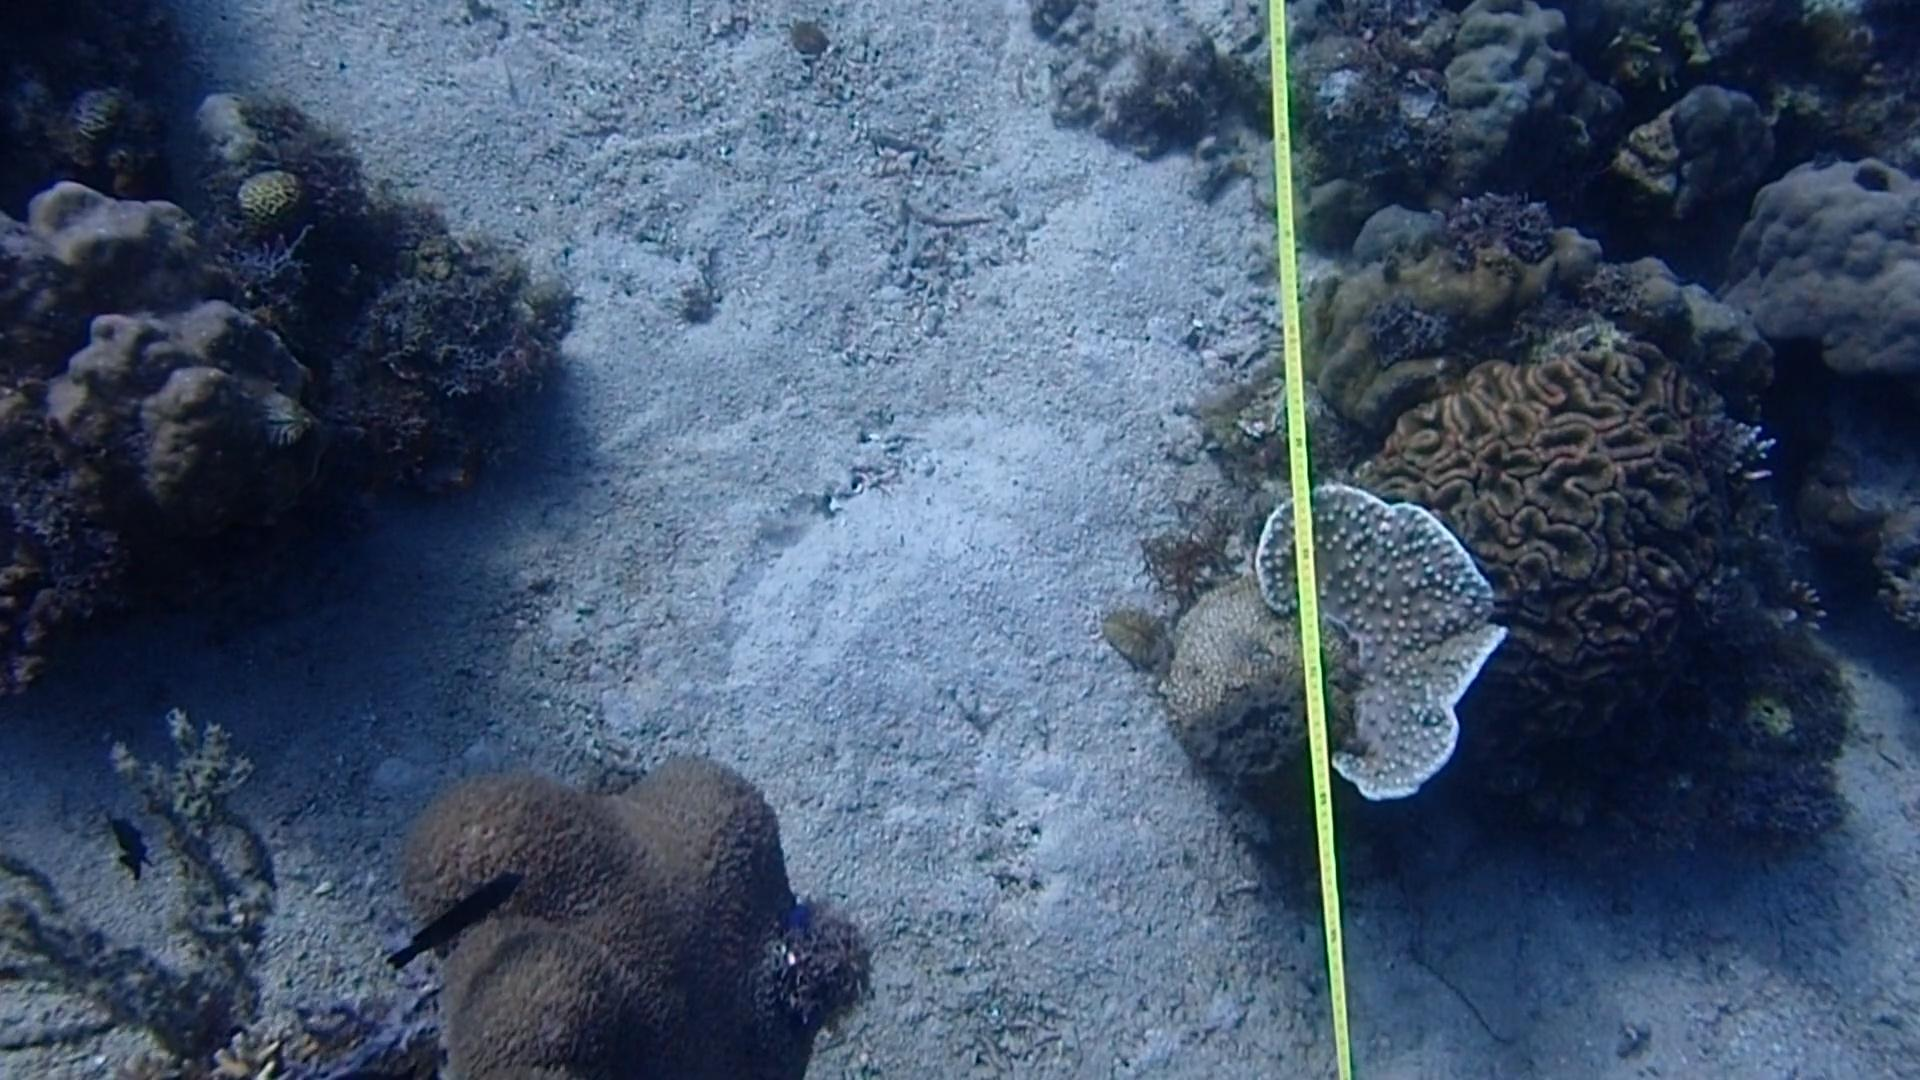Dark Fish: (377, 864, 533, 984), (90, 799, 164, 885)
